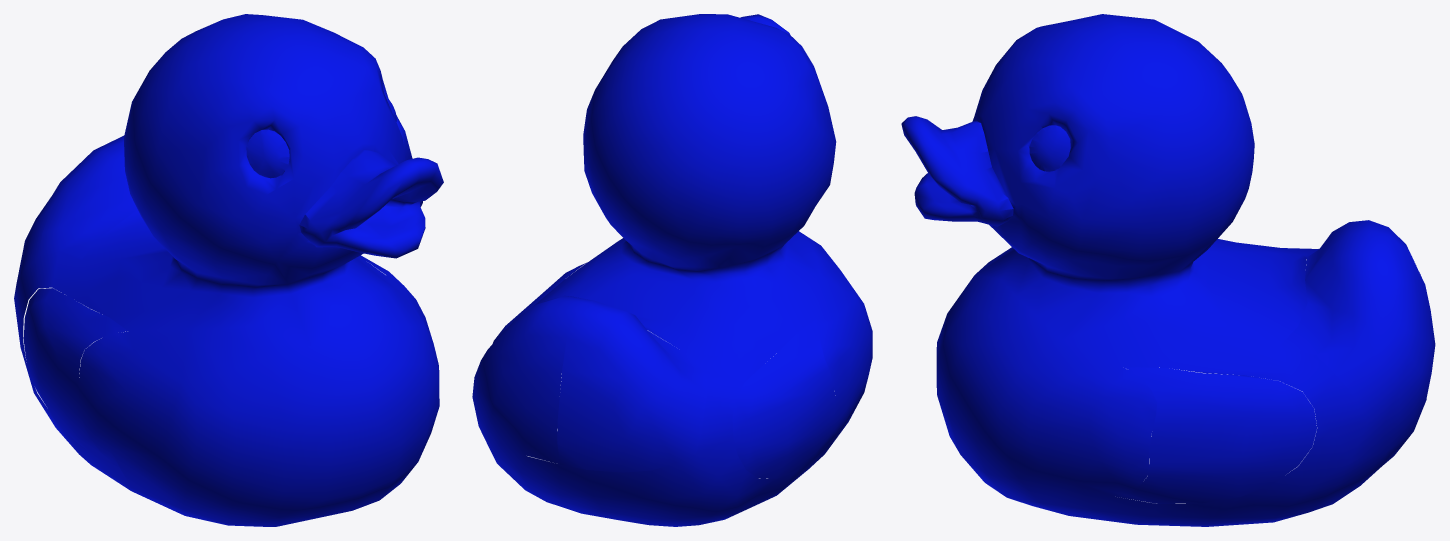
The model's file is duck_blue.glb.
3 renders of one model, left to right at view 1: azimuth 30°, elevation 25°; view 2: azimuth 150°, elevation 25°; view 3: azimuth 270°, elevation 25°, orthographic. The views are drawn at different scales.
Visible parts, largest first — view 1: LOD3spShape; view 2: LOD3spShape; view 3: LOD3spShape.
Part boxes in pixels (left/top/right/bottom): LOD3spShape: left=14, top=14, right=443, bottom=526; LOD3spShape: left=472, top=14, right=872, bottom=526; LOD3spShape: left=901, top=14, right=1435, bottom=526.
Size of the model in its own units: 1.15 by 1.54 by 1.66.
